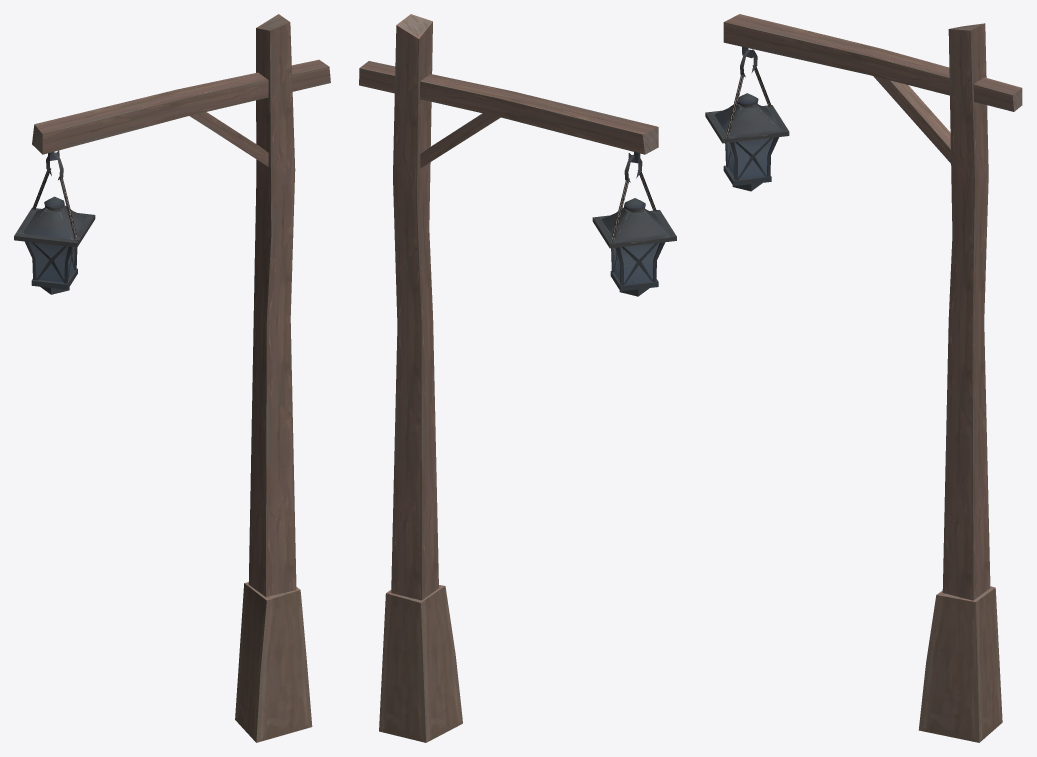
File: Homeworld_Exterior_Md_Lamp_Lamp_02_Vo.fbx
3 views of the same model, side by side, from view 1: azimuth 30°, elevation 25°; view 2: azimuth 150°, elevation 25°; view 3: azimuth 330°, elevation 25° (orthographic).
Parts seen in each view (by area): view 1: Area_ManorProps_Lamp01_Lod0; view 2: Area_ManorProps_Lamp01_Lod0; view 3: Area_ManorProps_Lamp01_Lod0.
Part boxes in pixels (x1,y1,x2,y2): Area_ManorProps_Lamp01_Lod0: [14, 14, 330, 742]; Area_ManorProps_Lamp01_Lod0: [359, 14, 676, 742]; Area_ManorProps_Lamp01_Lod0: [705, 14, 1022, 742].
Bounding box in the file's own units: 1.63 × 3.5 × 0.43.
Materials: 1 (1 with a texture image).
